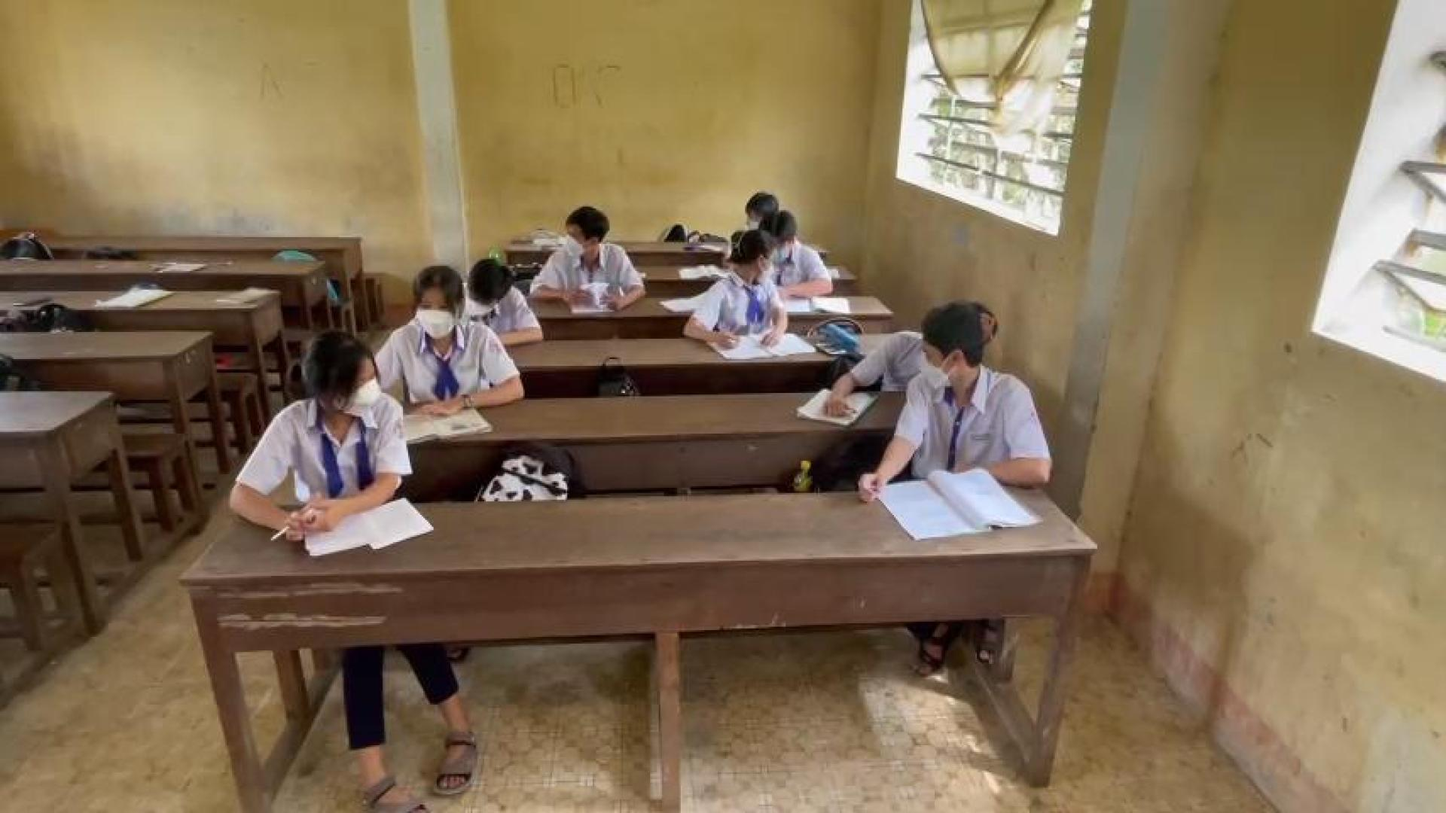Look Around: (281, 320, 388, 417), (894, 295, 999, 390), (535, 181, 620, 268), (708, 215, 792, 301)
